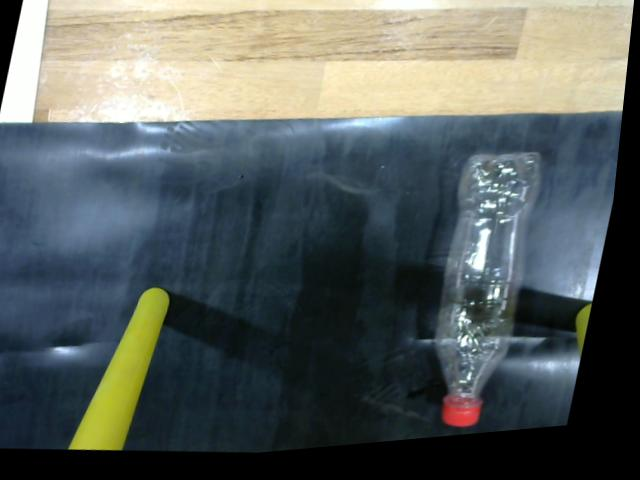bottle: (435, 156, 557, 438)
